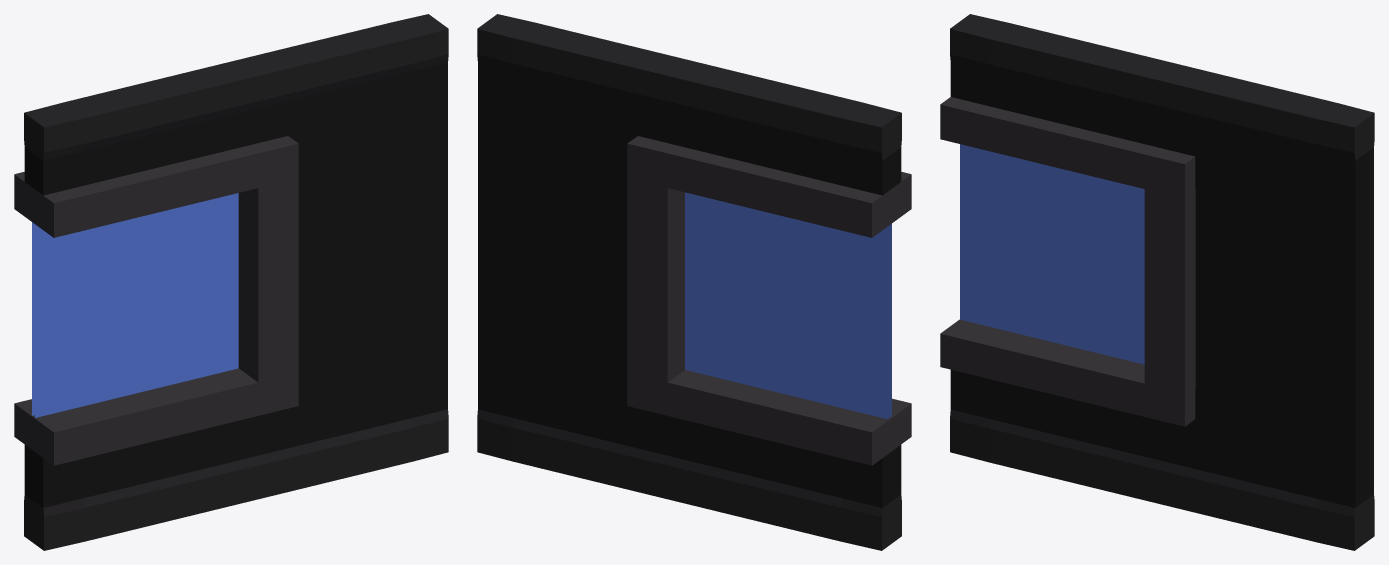
The model's file is Wall_Window_Corner.fbx.
3 renders of one model, left to right at view 1: azimuth 30°, elevation 25°; view 2: azimuth 150°, elevation 25°; view 3: azimuth 330°, elevation 25°, orthographic.
Parts seen in each view (by area): view 1: Wall_Window_Corner; view 2: Wall_Window_Corner; view 3: Wall_Window_Corner.
Boxes of the visible parts, left/top/right/bottom form: Wall_Window_Corner: left=14, top=14, right=448, bottom=550; Wall_Window_Corner: left=477, top=14, right=911, bottom=550; Wall_Window_Corner: left=940, top=14, right=1374, bottom=550.
Bounding box in the file's own units: 500 × 500 × 84.86.
